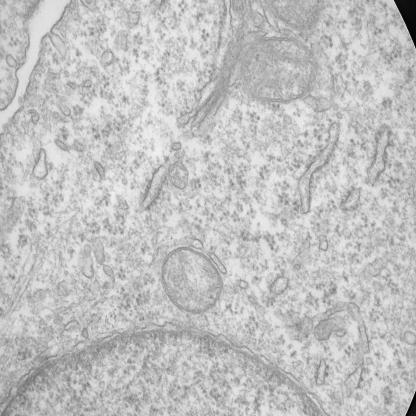mitochondria: (242, 34, 316, 107), (160, 246, 224, 319)
